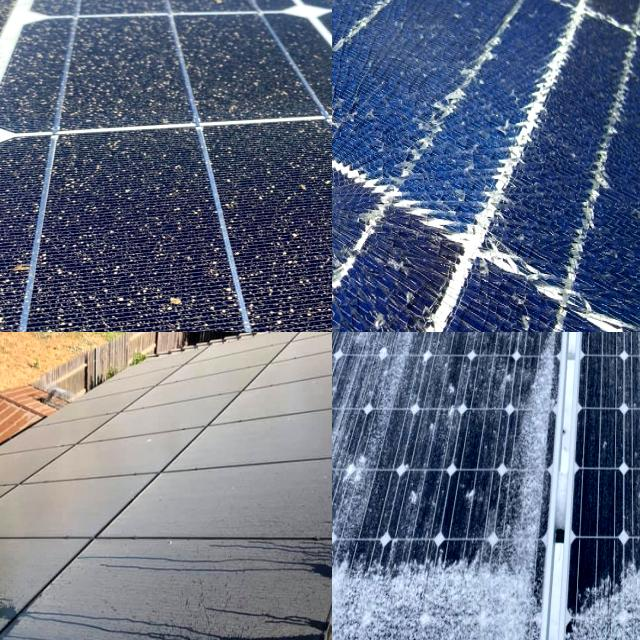dust: (21, 185, 192, 332), (133, 476, 332, 602), (139, 357, 332, 455), (62, 30, 252, 111), (273, 159, 332, 332), (0, 538, 105, 619), (0, 466, 119, 536), (138, 595, 316, 640), (66, 404, 121, 458)
hotspot: (332, 139, 384, 266)
panel: (507, 332, 553, 579), (347, 544, 447, 640), (459, 540, 551, 640), (564, 561, 640, 640), (332, 557, 352, 640)
